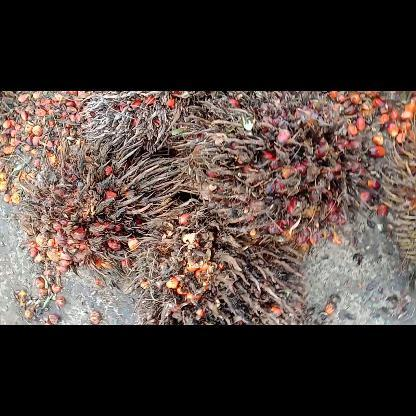Terlalu masak: (170, 91, 386, 241), (24, 136, 184, 286), (132, 196, 312, 324), (75, 90, 221, 160)
